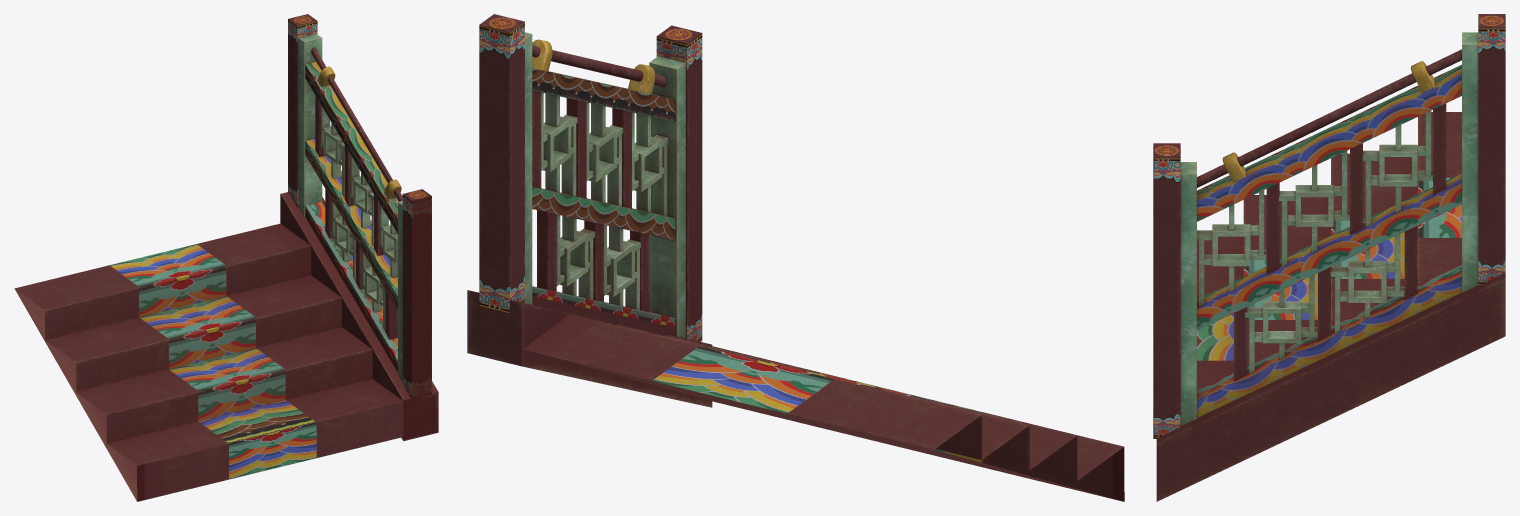
File: stairs_002.fbx
3 renders of one model, left to right at view 1: azimuth 30°, elevation 25°; view 2: azimuth 150°, elevation 25°; view 3: azimuth 270°, elevation 25°, orthographic. The views are drawn at different scales.
Visible parts, largest first — view 1: stairs_002; view 2: stairs_002; view 3: stairs_002.
Boxes of the visible parts, x1,y1,x2,y2 form: stairs_002: [14, 14, 438, 501]; stairs_002: [467, 14, 1124, 501]; stairs_002: [1153, 14, 1505, 501].
Bounding box in the file's own units: 181 × 190 × 129.
